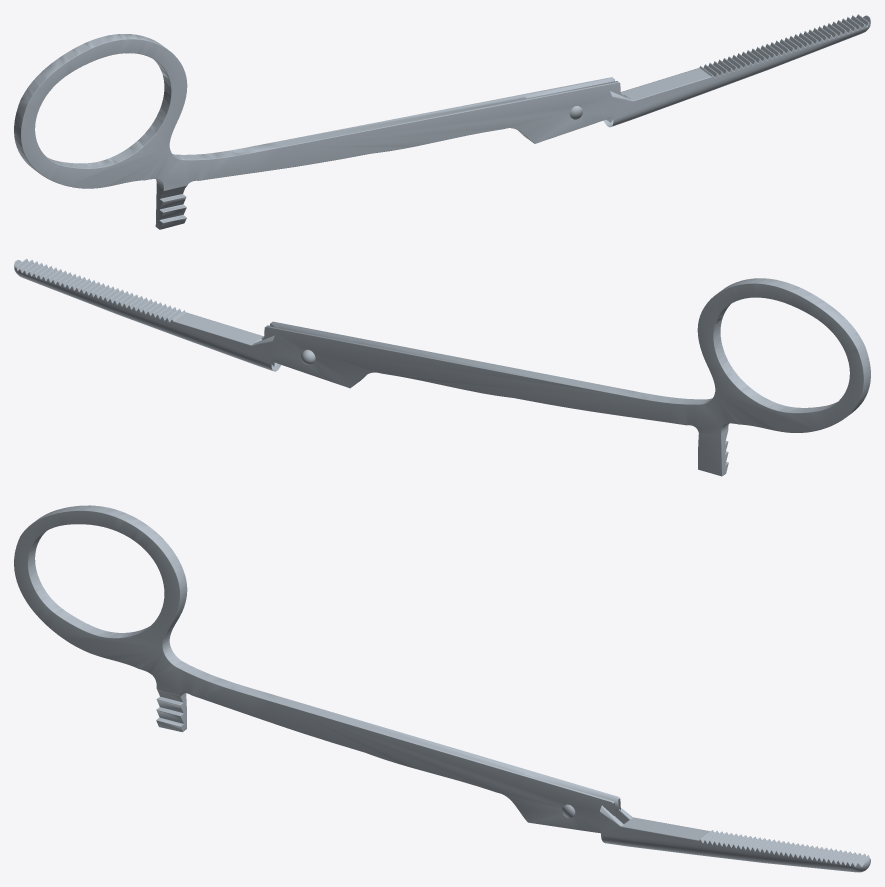
The model's file is fixed.obj.
The picture shows the model from 3 angles, top to bottom: view 1: azimuth 30°, elevation 25°; view 2: azimuth 150°, elevation 25°; view 3: azimuth 330°, elevation 25°; orthographic projection.
Size of the model in its own units: 0.1509 by 0.0355 by 0.00418.
